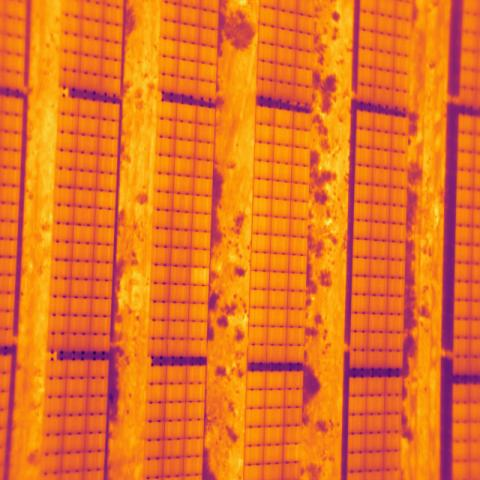fault: (190, 267, 210, 287)
